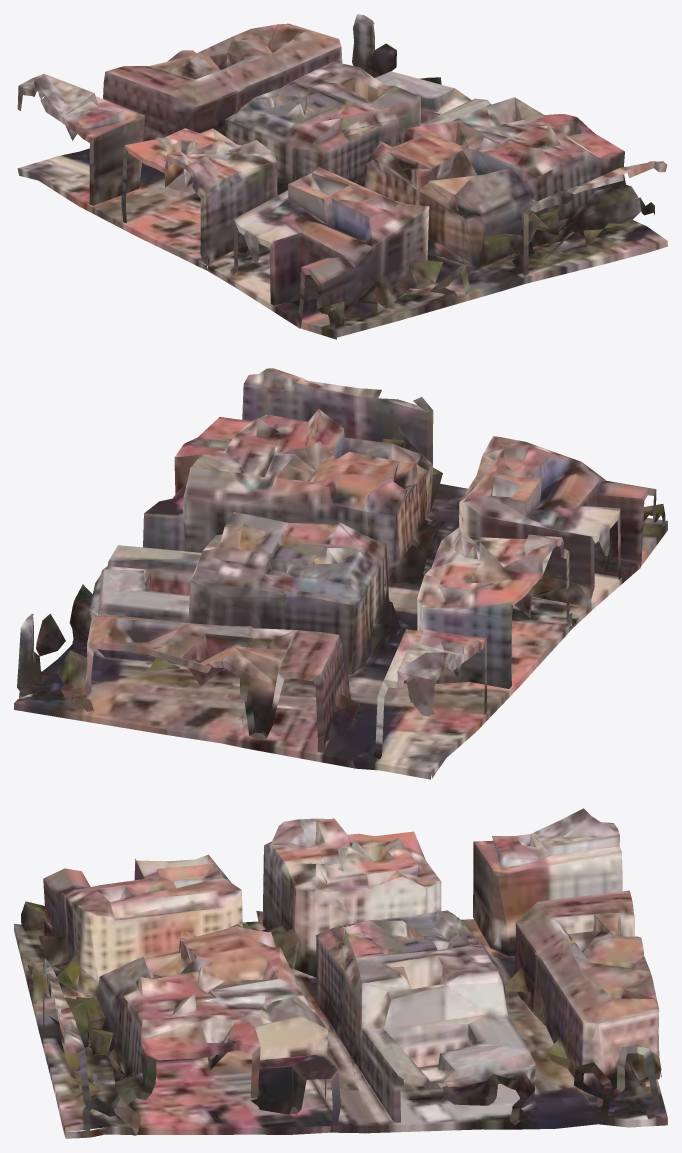
The picture shows the model from 3 angles, top to bottom: view 1: azimuth 30°, elevation 25°; view 2: azimuth 150°, elevation 25°; view 3: azimuth 270°, elevation 25°; orthographic projection. The views are drawn at different scales.
Visible parts, largest first — view 1: Mesh_0; view 2: Mesh_0; view 3: Mesh_0.
Part boxes in pixels (box(x1,y1,x2,y2)): Mesh_0: box(17, 14, 667, 339); Mesh_0: box(14, 368, 667, 779); Mesh_0: box(14, 808, 667, 1138).
Size of the model in its own units: 134 by 35.85 by 165.
1 material, 1 textured.
